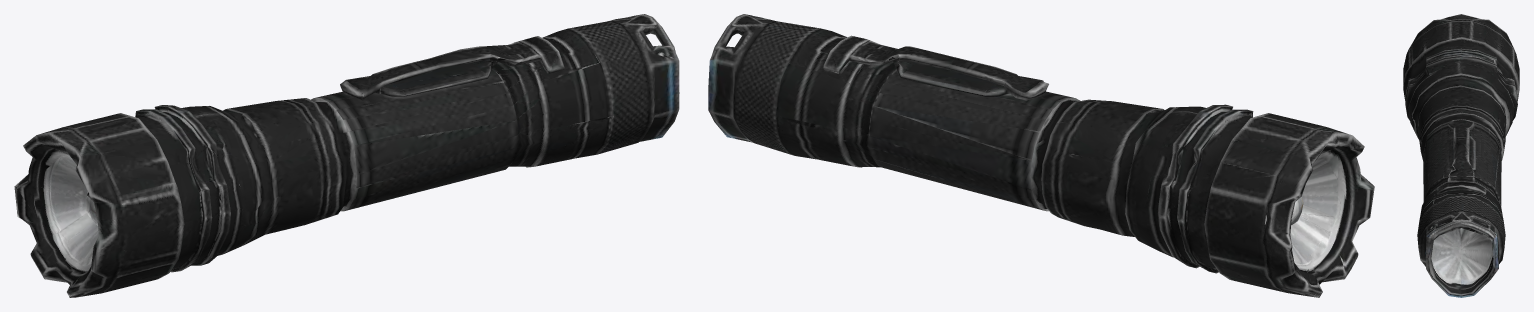
The model's file is g_flashlight.glb.
3 views of the same model, side by side, from view 1: azimuth 30°, elevation 25°; view 2: azimuth 150°, elevation 25°; view 3: azimuth 270°, elevation 25° (orthographic). The views are drawn at different scales.
Size of the model in its own units: 0.957 by 0.2377 by 0.2417.
Materials: 1 (1 with a texture image).
